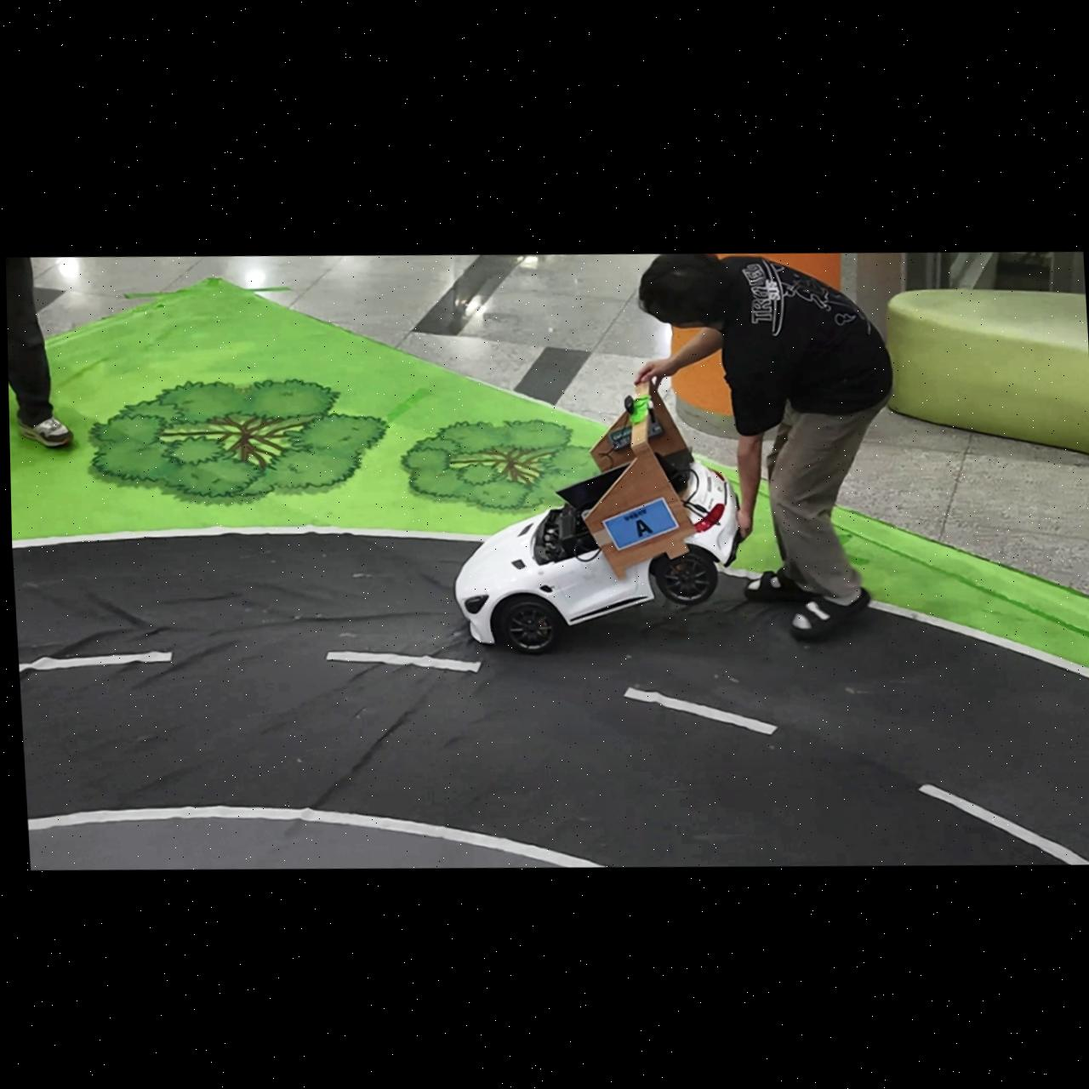broken_line: (917, 783, 1089, 864), (623, 686, 778, 735), (325, 650, 481, 673), (19, 651, 172, 672)
